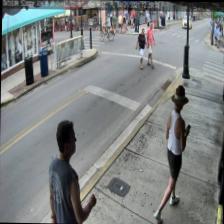person: (153, 84, 191, 224)
